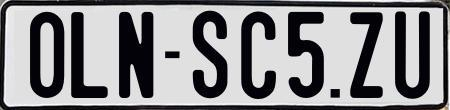0: (28, 10, 62, 96)
5: (285, 12, 323, 104)
C: (239, 9, 280, 99)
L: (69, 10, 110, 102)
N: (119, 11, 154, 103)
S: (192, 10, 227, 99)
U: (393, 9, 431, 103)
Z: (349, 11, 388, 101)
